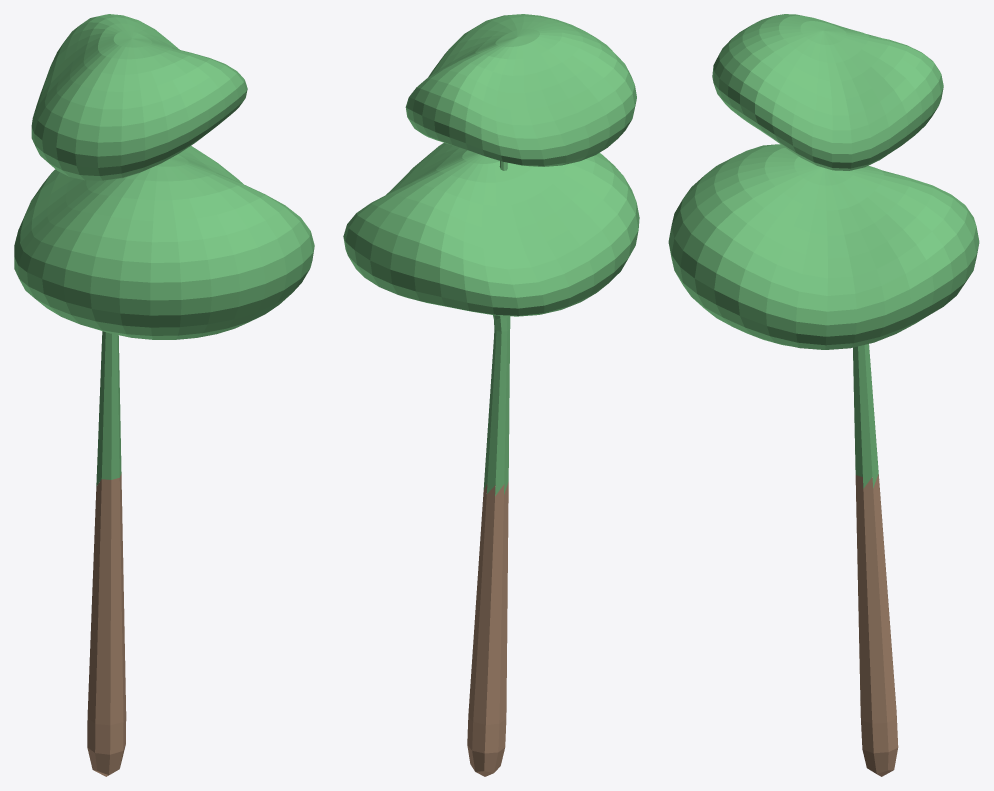
Rendered from tree_Tree_10.glb.
3 renders of one model, left to right at view 1: azimuth 30°, elevation 25°; view 2: azimuth 150°, elevation 25°; view 3: azimuth 270°, elevation 25°, orthographic. The views are drawn at different scales.
Parts seen in each view (by area): view 1: Canopy, Trunk; view 2: Canopy, Trunk; view 3: Canopy, Trunk.
Boxes of the visible parts, x1,y1,x2,y2 form: Canopy: (14,14,314,486); Trunk: (87,473,126,776); Canopy: (343,14,639,495); Trunk: (467,482,508,776); Canopy: (668,14,979,488); Trunk: (855,474,898,776).
Size of the model in its own units: 13.23 by 37.3 by 14.09.
